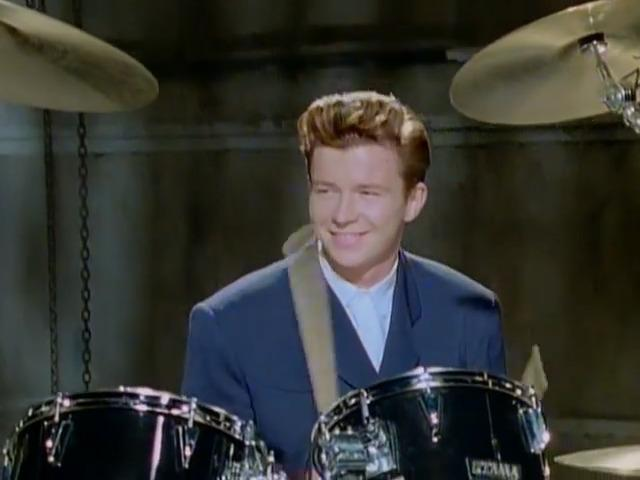safety_helmet: (309, 364, 551, 479), (2, 385, 279, 479)
